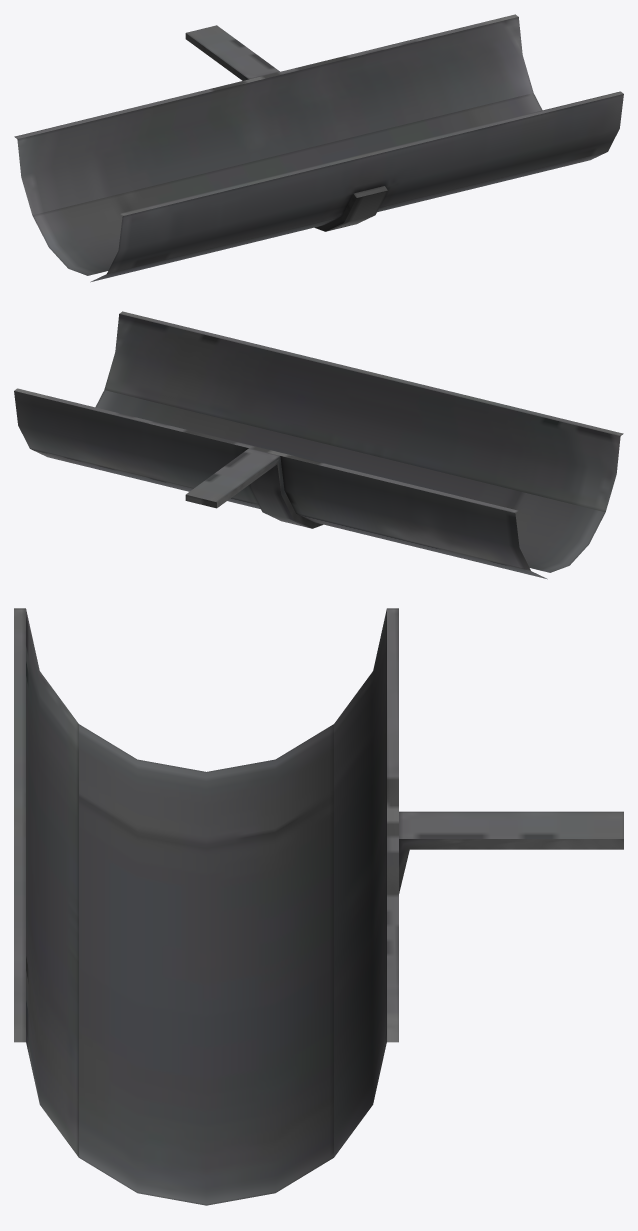
3 renders of one model, top to bottom at view 1: azimuth 30°, elevation 25°; view 2: azimuth 150°, elevation 25°; view 3: azimuth 270°, elevation 25°, orthographic. The views are drawn at different scales.
Visible parts, largest first — view 1: body0_model0_lod0_mesh0; view 2: body0_model0_lod0_mesh0; view 3: body0_model0_lod0_mesh0.
Boxes of the visible parts, left/top/right/bottom form: body0_model0_lod0_mesh0: left=14, top=14, right=623, bottom=282; body0_model0_lod0_mesh0: left=14, top=311, right=623, bottom=579; body0_model0_lod0_mesh0: left=14, top=608, right=623, bottom=1205.
Bounding box in the file's own units: 64 × 12.75 × 38.04.
Materials: 1 (1 with a texture image).
